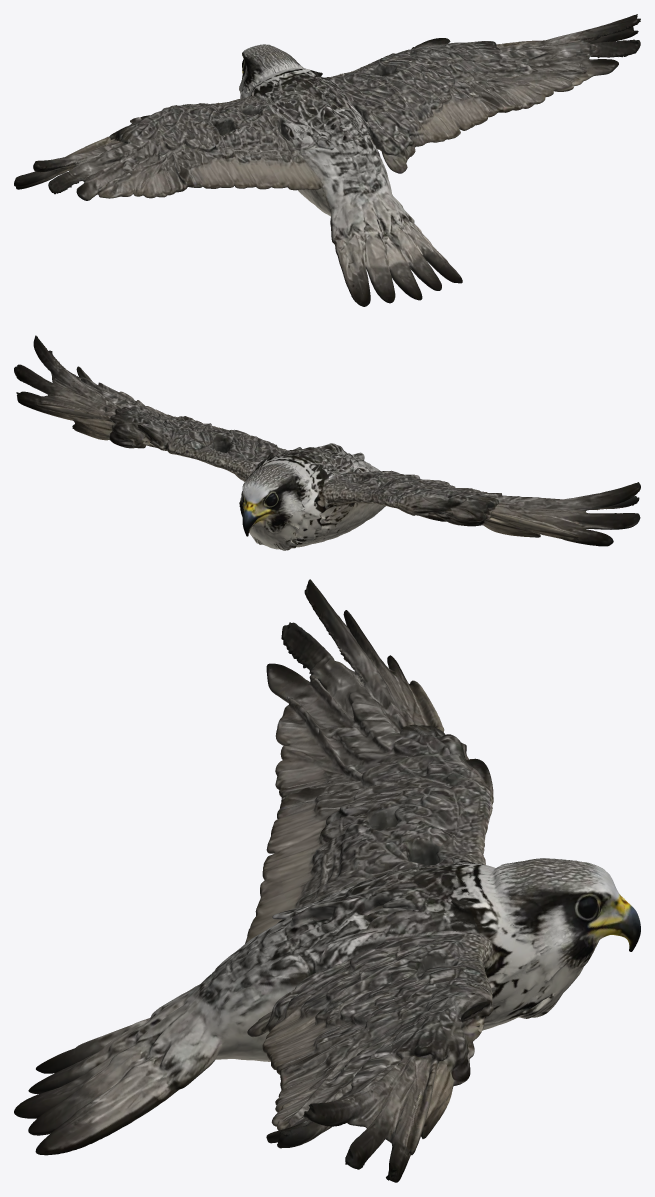
The model's file is s-hawk.glb.
3 renders of one model, top to bottom at view 1: azimuth 30°, elevation 25°; view 2: azimuth 150°, elevation 25°; view 3: azimuth 270°, elevation 25°, orthographic. The views are drawn at different scales.
Parts seen in each view (by area): view 1: tripo_node_9f56c9b4-6b05-4784-8749-8f00ccc57d98; view 2: tripo_node_9f56c9b4-6b05-4784-8749-8f00ccc57d98; view 3: tripo_node_9f56c9b4-6b05-4784-8749-8f00ccc57d98.
Part boxes in pixels (<box>): tripo_node_9f56c9b4-6b05-4784-8749-8f00ccc57d98: <box>14,14,640,306</box>; tripo_node_9f56c9b4-6b05-4784-8749-8f00ccc57d98: <box>14,335,640,550</box>; tripo_node_9f56c9b4-6b05-4784-8749-8f00ccc57d98: <box>14,579,640,1182</box>.
Size of the model in its own units: 0.9814 by 0.2305 by 0.4784.
1 material, 1 textured.
